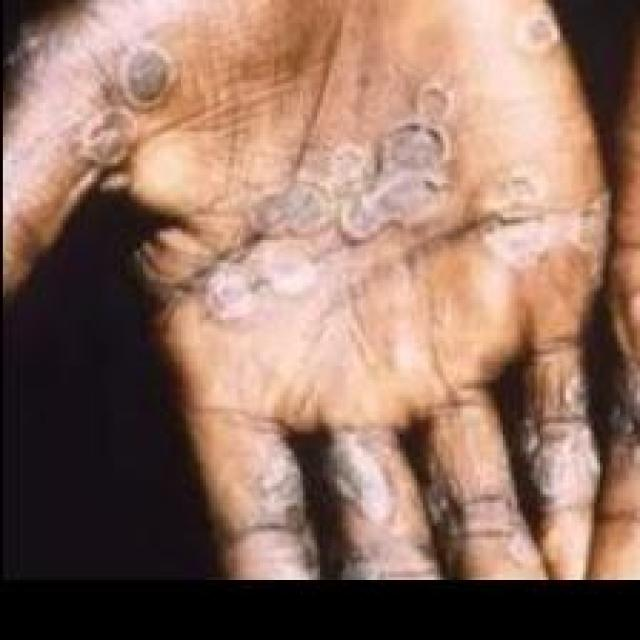monkeypox: (0, 5, 640, 639)
